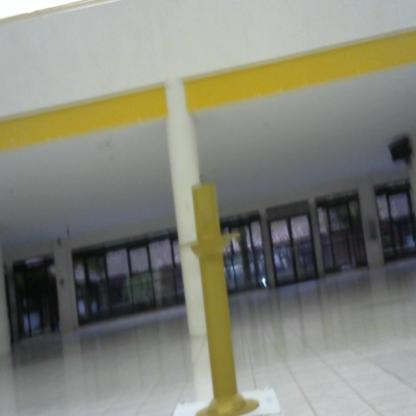pole: (176, 168, 267, 416)
